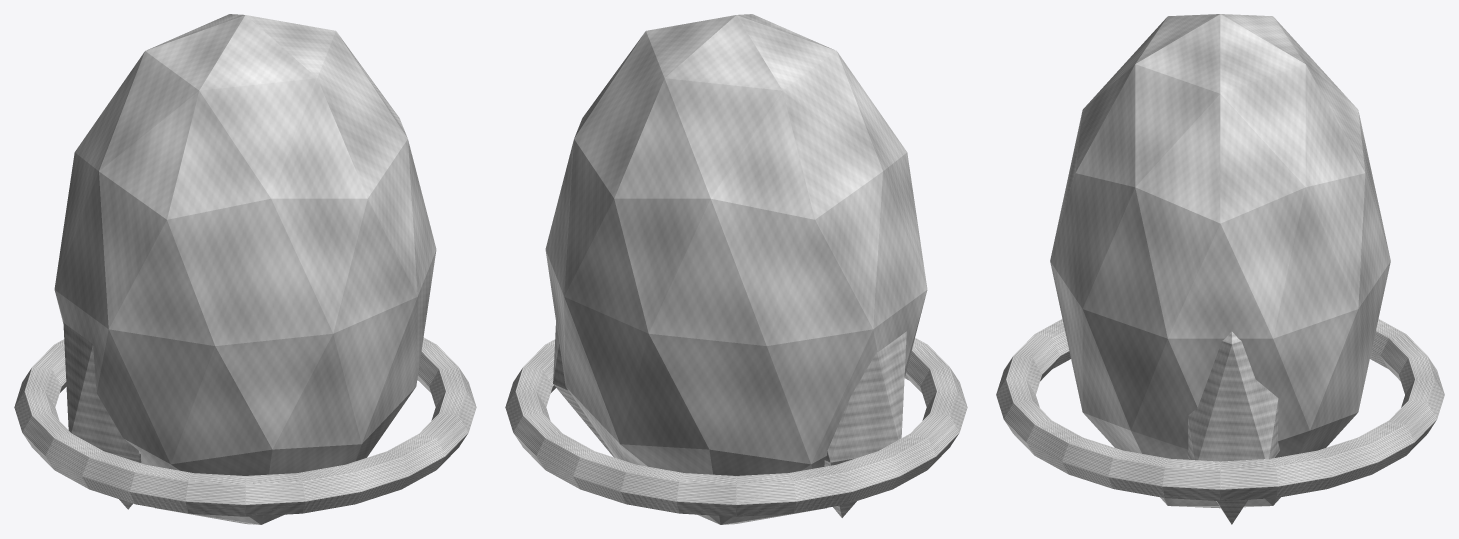
File: item-superposition-oscillator_variant_a.glb
The picture shows the model from 3 angles, left to right: view 1: azimuth 30°, elevation 25°; view 2: azimuth 150°, elevation 25°; view 3: azimuth 270°, elevation 25°; orthographic projection. The views are drawn at different scales.
Parts seen in each view (by area): view 1: Faceted crystal.001, Crystal containment ring.001, Crystal shard.001; view 2: Faceted crystal.001, Crystal containment ring.001, Crystal shard.001, Crystal shard.002; view 3: Faceted crystal.001, Crystal containment ring.001, Crystal shard.002.
Part boxes in pixels (bbox=[...]): Faceted crystal.001: bbox=[54, 14, 436, 524]; Crystal containment ring.001: bbox=[14, 337, 476, 516]; Crystal shard.001: bbox=[63, 322, 141, 509]; Faceted crystal.001: bbox=[545, 14, 927, 524]; Crystal containment ring.001: bbox=[505, 338, 967, 516]; Crystal shard.001: bbox=[824, 331, 906, 517]; Crystal shard.002: bbox=[553, 322, 614, 457]; Faceted crystal.001: bbox=[1050, 14, 1390, 508]; Crystal containment ring.001: bbox=[996, 319, 1444, 501]; Crystal shard.002: bbox=[1187, 331, 1279, 524].
Size of what is drawn, in the model's own units: 0.79 by 0.96 by 0.79.
Materials: 3 (3 with a texture image).
